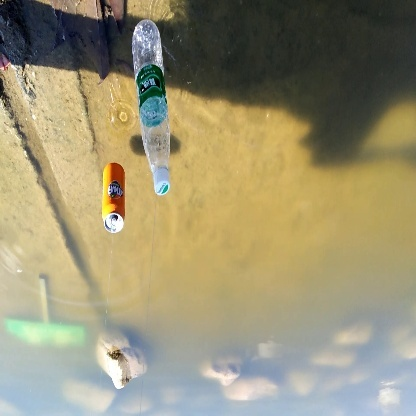bottle: (129, 22, 178, 197)
